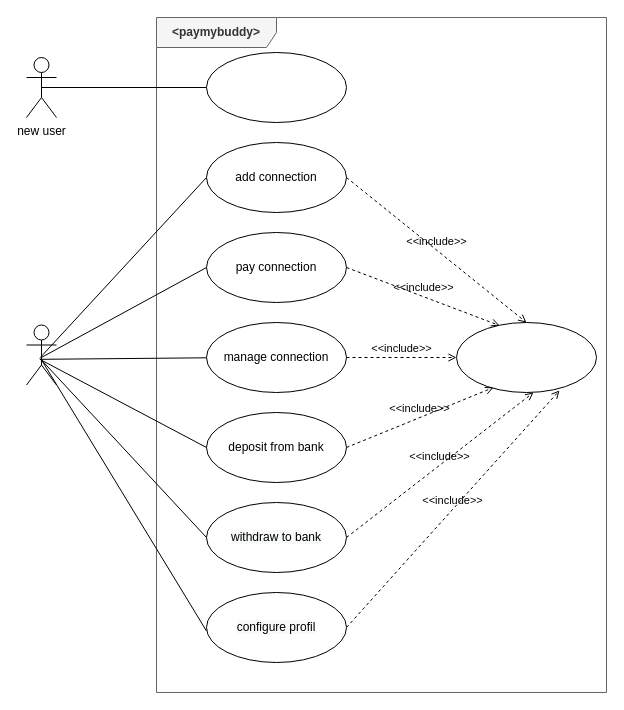
This 624x710 diagram has some shape labels left out. The box of each missing label's shape, as (x1, y1, x2, y2) in pixels:
log in: (456, 322, 596, 392)
register: (206, 52, 346, 122)
user: (26, 324, 56, 385)
